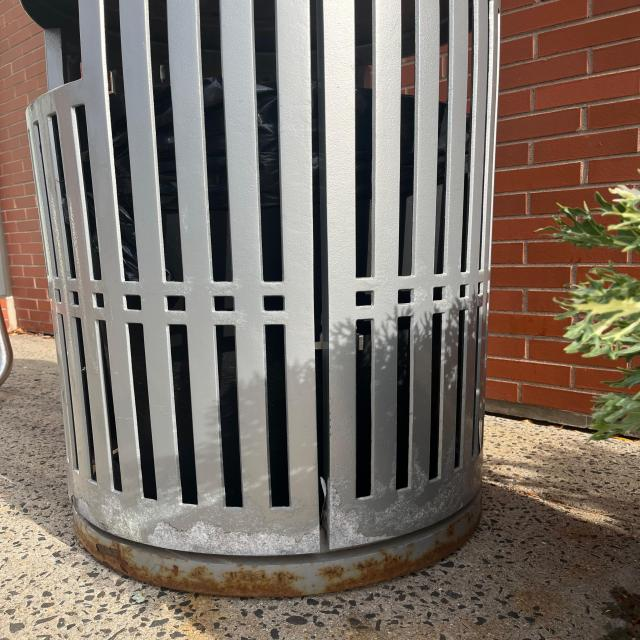Crevice Corrosion: (69, 491, 492, 600)
